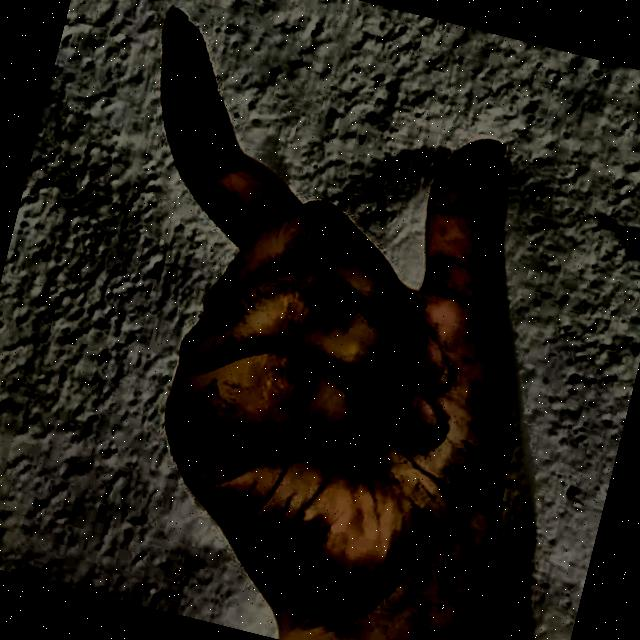ChandraBindu: (12, 0, 626, 640)
